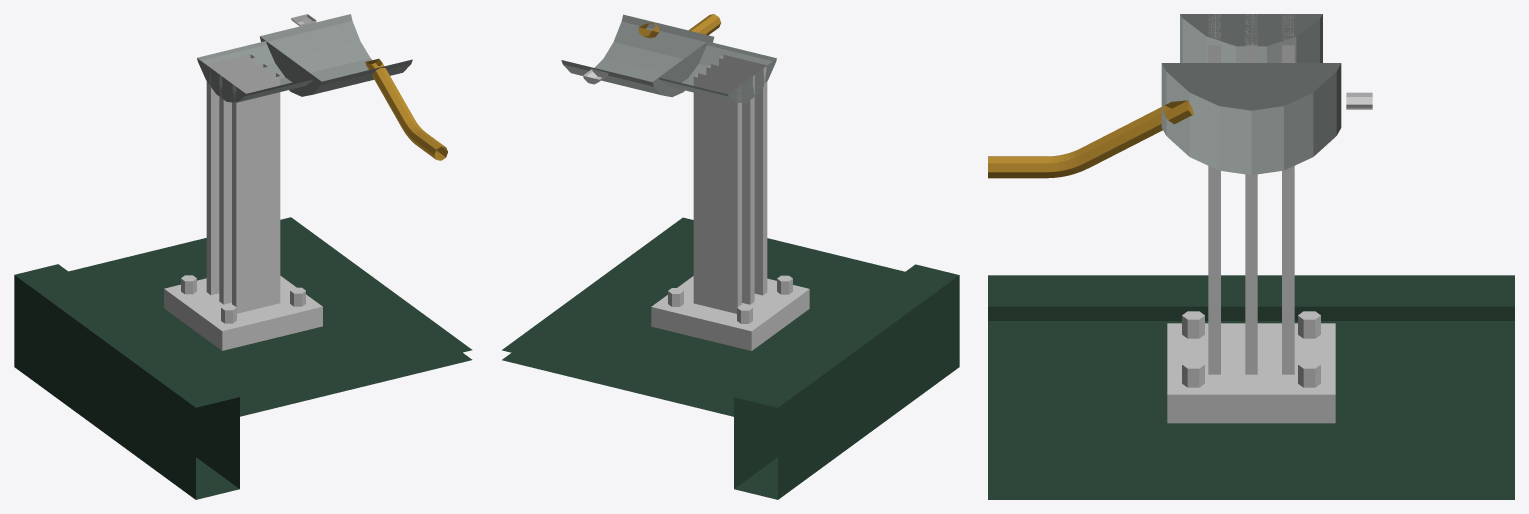
The model's file is cell_10.obj.
3 views of the same model, side by side, from view 1: azimuth 30°, elevation 25°; view 2: azimuth 150°, elevation 25°; view 3: azimuth 270°, elevation 25° (orthographic). The views are drawn at different scales.
Size of the model in its own units: 0.88 by 1 by 1.
